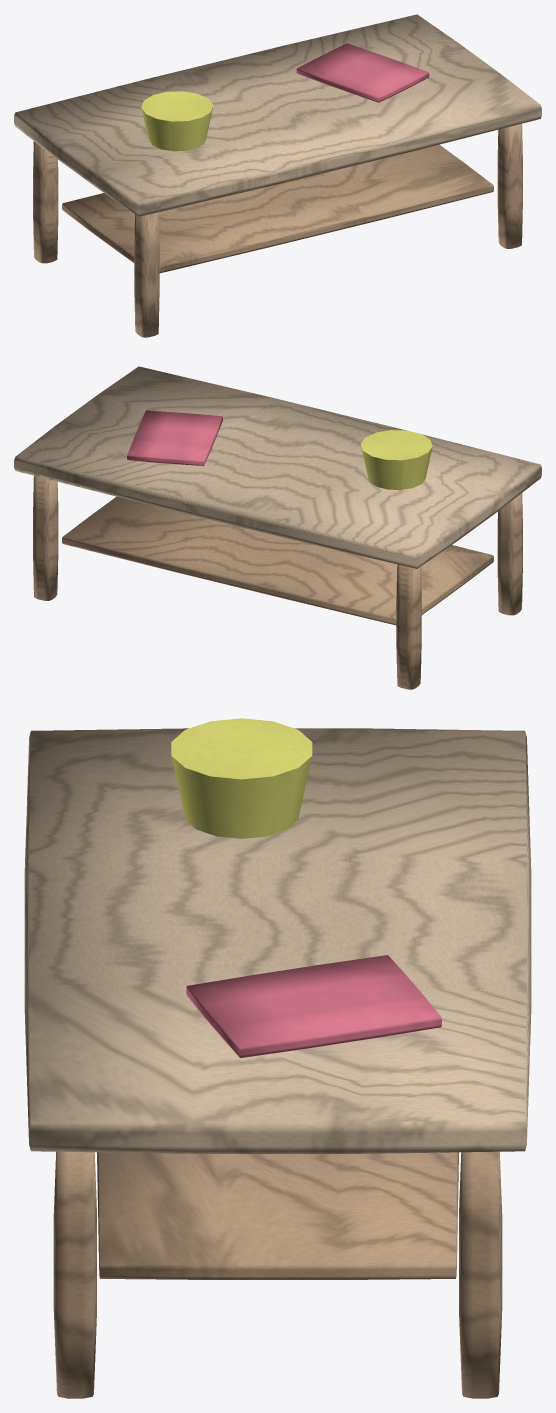
The model's file is coffee_table.glb.
3 views of the same model, one above another, from view 1: azimuth 30°, elevation 25°; view 2: azimuth 150°, elevation 25°; view 3: azimuth 270°, elevation 25° (orthographic). The views are drawn at different scales.
Visible parts, largest first — view 1: coffee_table_body; view 2: coffee_table_body; view 3: coffee_table_body.
Boxes of the visible parts, x1,y1,x2,y2 form: coffee_table_body: [14, 14, 541, 337]; coffee_table_body: [14, 366, 541, 689]; coffee_table_body: [24, 718, 531, 1398].
Size of the model in its own units: 1.3 by 0.55 by 0.7.
Materials: 4 (4 with a texture image).
